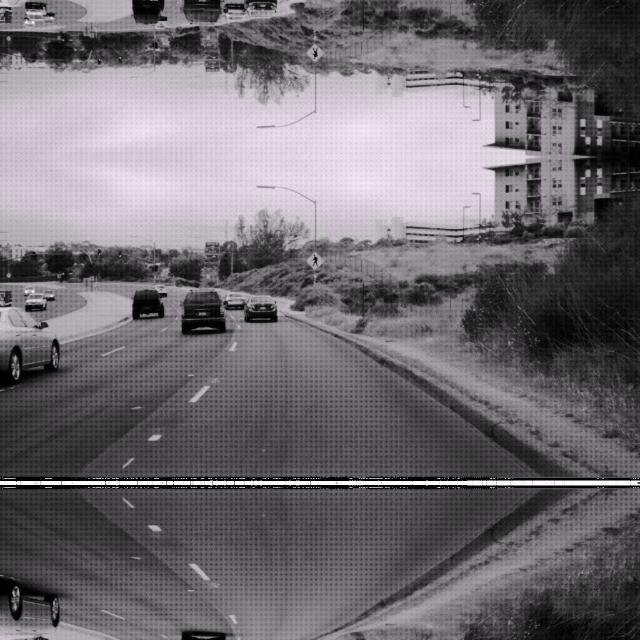pedestrianCrossing: (305, 249, 325, 269), (305, 43, 325, 63)
